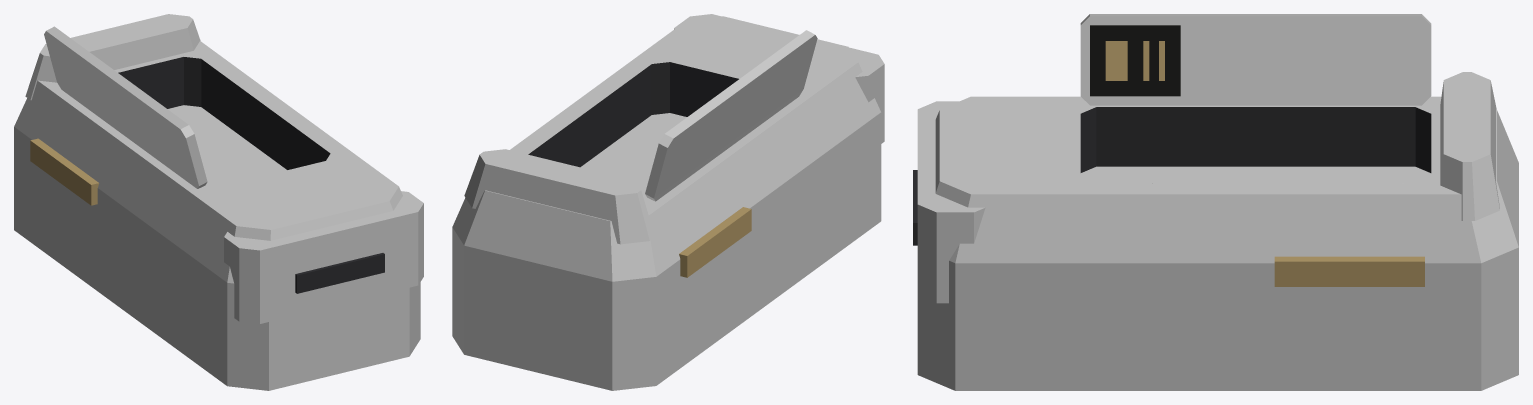
File: cqf_casket_open.obj
The picture shows the model from 3 angles, left to right: view 1: azimuth 30°, elevation 25°; view 2: azimuth 150°, elevation 25°; view 3: azimuth 270°, elevation 25°; orthographic projection. The views are drawn at different scales.
Bounding box in the file's own units: 0.94 × 0.9453 × 1.94.
